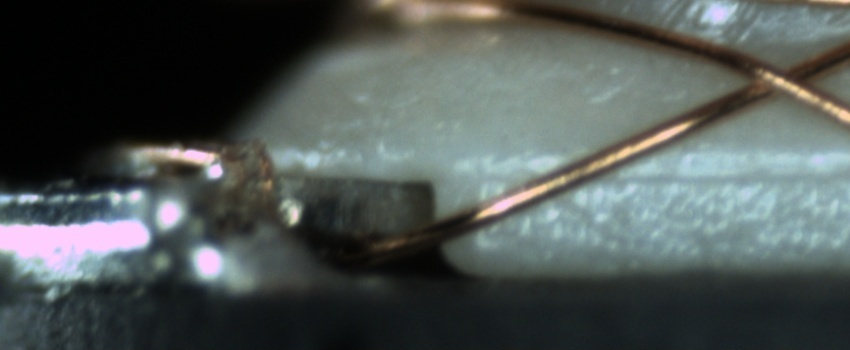CL: (727, 46, 835, 109)
DL: (479, 137, 849, 201)
TE: (107, 134, 279, 185)
